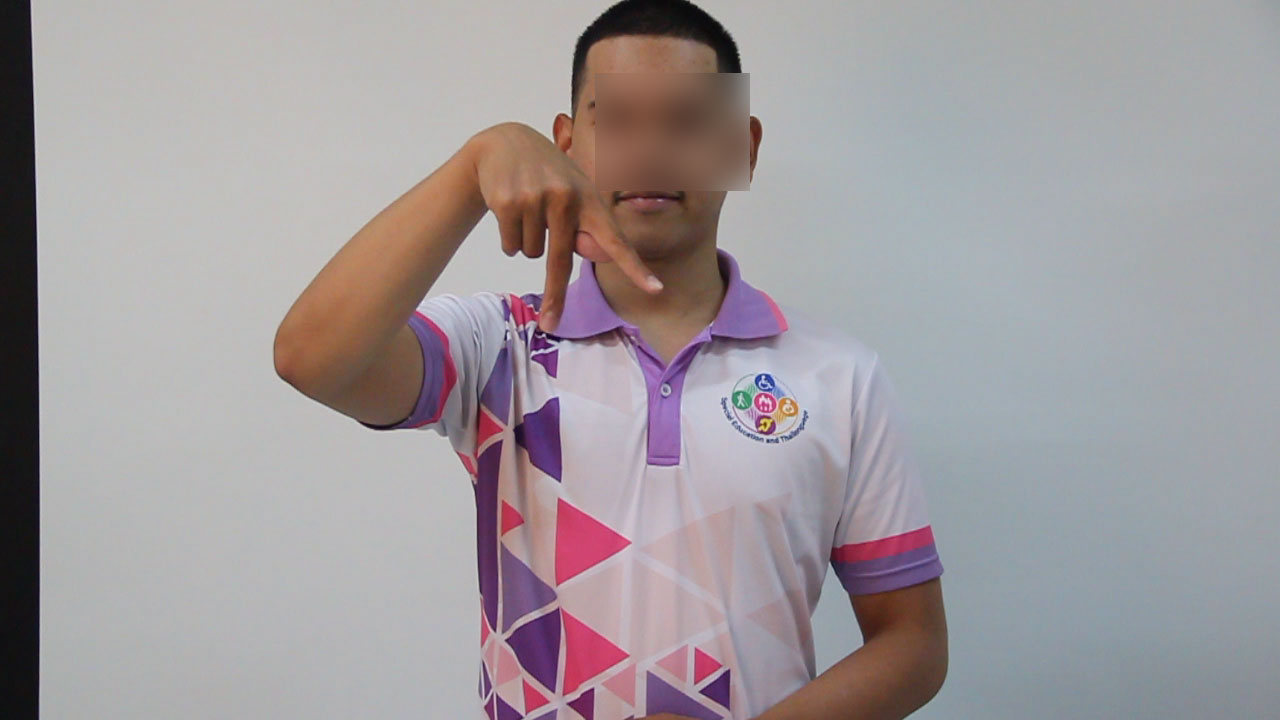por: (467, 102, 672, 345)
